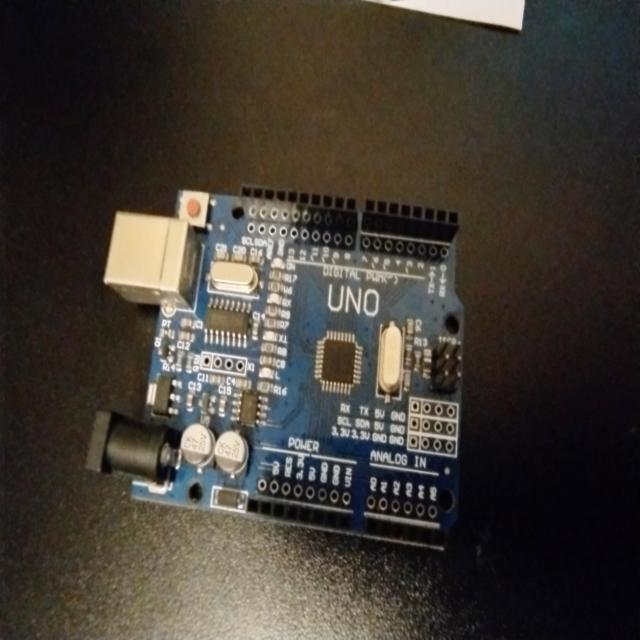arduino: (76, 182, 475, 565)
